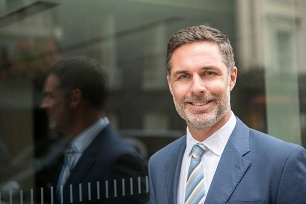male: (166, 39, 233, 128)
